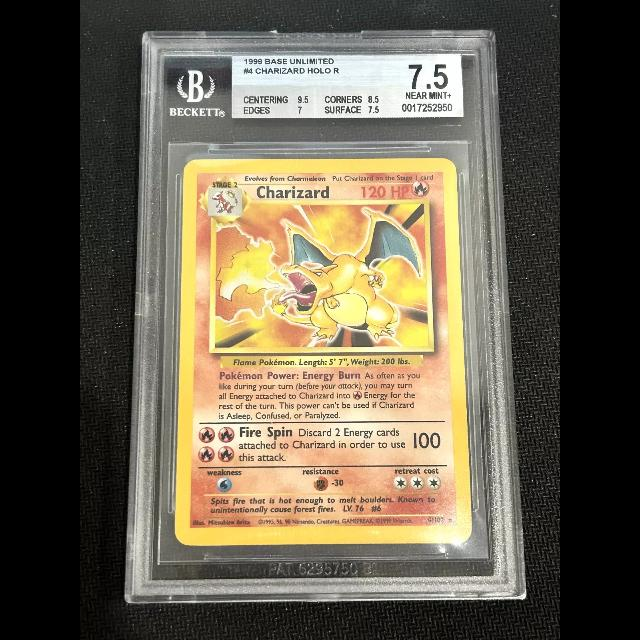bgs_label: (231, 54, 464, 118)
bgs_slab: (123, 29, 526, 603)
card: (174, 158, 475, 547)
